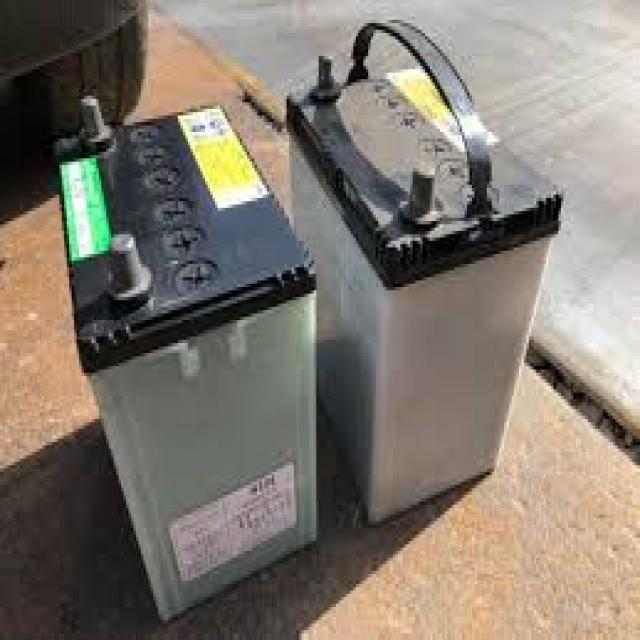non-organic waste: (48, 95, 316, 625), (288, 20, 560, 521)
